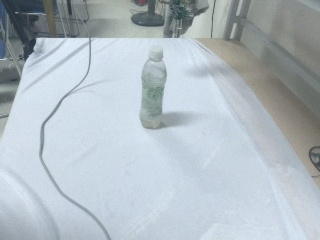bottle: (139, 43, 168, 129)
